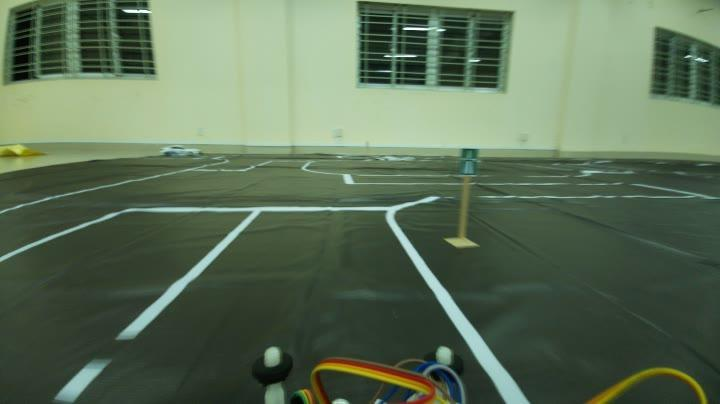highway_entry: (458, 144, 482, 183)
